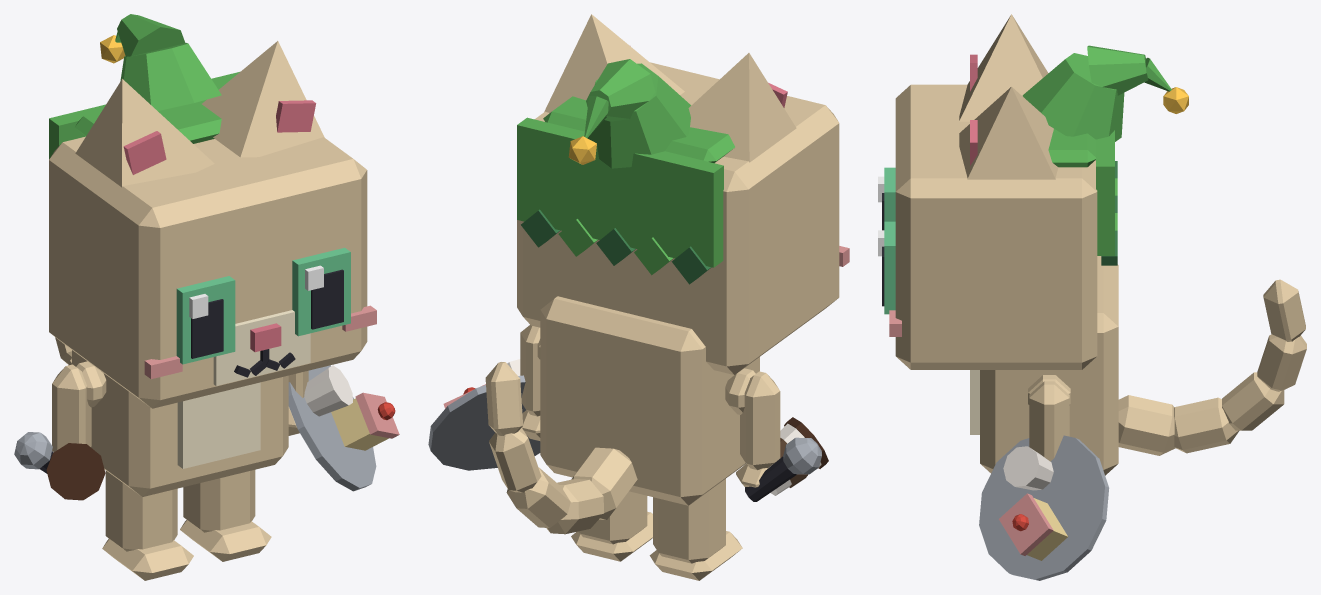
File: CatCafe_Cat_Elf_Work.glb
The picture shows the model from 3 angles, left to right: view 1: azimuth 30°, elevation 25°; view 2: azimuth 150°, elevation 25°; view 3: azimuth 270°, elevation 25°; orthographic projection. The views are drawn at different scales.
Parts seen in each view (by area): view 1: CatCafe_Cat_Elf_Work_Head, CatCafe_Cat_Elf_Work_Body, CatCafe_Cat_Elf_Work_Prop, CatCafe_Cat_Elf_Work_Held_Waiter, CatCafe_Cat_Elf_Work_EarL, CatCafe_Cat_Elf_Work_EarR, CatCafe_Cat_Elf_Work_LegB2, CatCafe_Cat_Elf_Work_LegB1, CatCafe_Cat_Elf_Work_Eye2, CatCafe_Cat_Elf_Work_Eye1, CatCafe_Cat_Elf_Work_LegF2, CatCafe_Cat_Elf_Work_Held_Barista (+2 smaller); view 2: CatCafe_Cat_Elf_Work_Head, CatCafe_Cat_Elf_Work_Prop, CatCafe_Cat_Elf_Work_Body, CatCafe_Cat_Elf_Work_Tail, CatCafe_Cat_Elf_Work_EarR, CatCafe_Cat_Elf_Work_LegB2, CatCafe_Cat_Elf_Work_Held_Waiter, CatCafe_Cat_Elf_Work_EarL, CatCafe_Cat_Elf_Work_LegF2, CatCafe_Cat_Elf_Work_LegB1, CatCafe_Cat_Elf_Work_Held_Entertainer, CatCafe_Cat_Elf_Work_LegF1 (+1 smaller); view 3: CatCafe_Cat_Elf_Work_Head, CatCafe_Cat_Elf_Work_Held_Waiter, CatCafe_Cat_Elf_Work_Prop, CatCafe_Cat_Elf_Work_Body, CatCafe_Cat_Elf_Work_Tail, CatCafe_Cat_Elf_Work_EarL, CatCafe_Cat_Elf_Work_EarR, CatCafe_Cat_Elf_Work_LegF1, CatCafe_Cat_Elf_Work_Eye1, CatCafe_Cat_Elf_Work_Eye2.
Part boxes in pixels (x1=…): CatCafe_Cat_Elf_Work_Head: x1=49, y1=136, x2=376, y2=408; CatCafe_Cat_Elf_Work_Body: x1=72, y1=350, x2=288, y2=496; CatCafe_Cat_Elf_Work_Prop: x1=49, y1=14, x2=239, y2=159; CatCafe_Cat_Elf_Work_Held_Waiter: x1=288, y1=365, x2=399, y2=491; CatCafe_Cat_Elf_Work_EarL: x1=202, y1=41, x2=324, y2=157; CatCafe_Cat_Elf_Work_EarR: x1=75, y1=79, x2=214, y2=187; CatCafe_Cat_Elf_Work_LegB2: x1=102, y1=470, x2=193, y2=580; CatCafe_Cat_Elf_Work_LegB1: x1=180, y1=470, x2=271, y2=561; CatCafe_Cat_Elf_Work_Eye2: x1=176, y1=276, x2=235, y2=364; CatCafe_Cat_Elf_Work_Eye1: x1=292, y1=247, x2=350, y2=336; CatCafe_Cat_Elf_Work_LegF2: x1=52, y1=364, x2=91, y2=451; CatCafe_Cat_Elf_Work_Held_Barista: x1=46, y1=443, x2=105, y2=500; CatCafe_Cat_Elf_Work_Head: x1=517, y1=62, x2=849, y2=374; CatCafe_Cat_Elf_Work_Prop: x1=517, y1=59, x2=734, y2=284; CatCafe_Cat_Elf_Work_Body: x1=537, y1=296, x2=759, y2=505; CatCafe_Cat_Elf_Work_Tail: x1=485, y1=362, x2=637, y2=534; CatCafe_Cat_Elf_Work_EarR: x1=688, y1=53, x2=796, y2=162; CatCafe_Cat_Elf_Work_LegB2: x1=649, y1=479, x2=742, y2=580; CatCafe_Cat_Elf_Work_Held_Waiter: x1=428, y1=359, x2=540, y2=470; CatCafe_Cat_Elf_Work_EarL: x1=544, y1=14, x2=684, y2=112; CatCafe_Cat_Elf_Work_LegF2: x1=736, y1=371, x2=780, y2=487; CatCafe_Cat_Elf_Work_LegB1: x1=571, y1=491, x2=652, y2=561; CatCafe_Cat_Elf_Work_Held_Entertainer: x1=745, y1=437, x2=821, y2=501; CatCafe_Cat_Elf_Work_LegF1: x1=520, y1=325, x2=540, y2=440; CatCafe_Cat_Elf_Work_Head: x1=889, y1=84, x2=1097, y2=369; CatCafe_Cat_Elf_Work_Held_Waiter: x1=979, y1=435, x2=1109, y2=580; CatCafe_Cat_Elf_Work_Prop: x1=1022, y1=45, x2=1188, y2=265; CatCafe_Cat_Elf_Work_Body: x1=970, y1=256, x2=1118, y2=475; CatCafe_Cat_Elf_Work_Tail: x1=1118, y1=279, x2=1306, y2=455; CatCafe_Cat_Elf_Work_EarL: x1=959, y1=86, x2=1058, y2=179; CatCafe_Cat_Elf_Work_EarR: x1=959, y1=14, x2=1048, y2=121; CatCafe_Cat_Elf_Work_LegF1: x1=1029, y1=381, x2=1069, y2=461; CatCafe_Cat_Elf_Work_Eye1: x1=878, y1=221, x2=895, y2=314; CatCafe_Cat_Elf_Work_Eye2: x1=878, y1=167, x2=895, y2=230.
Size of the model in its own units: 1.53 by 2.02 by 1.62.
Materials: 1 (1 with a texture image).
